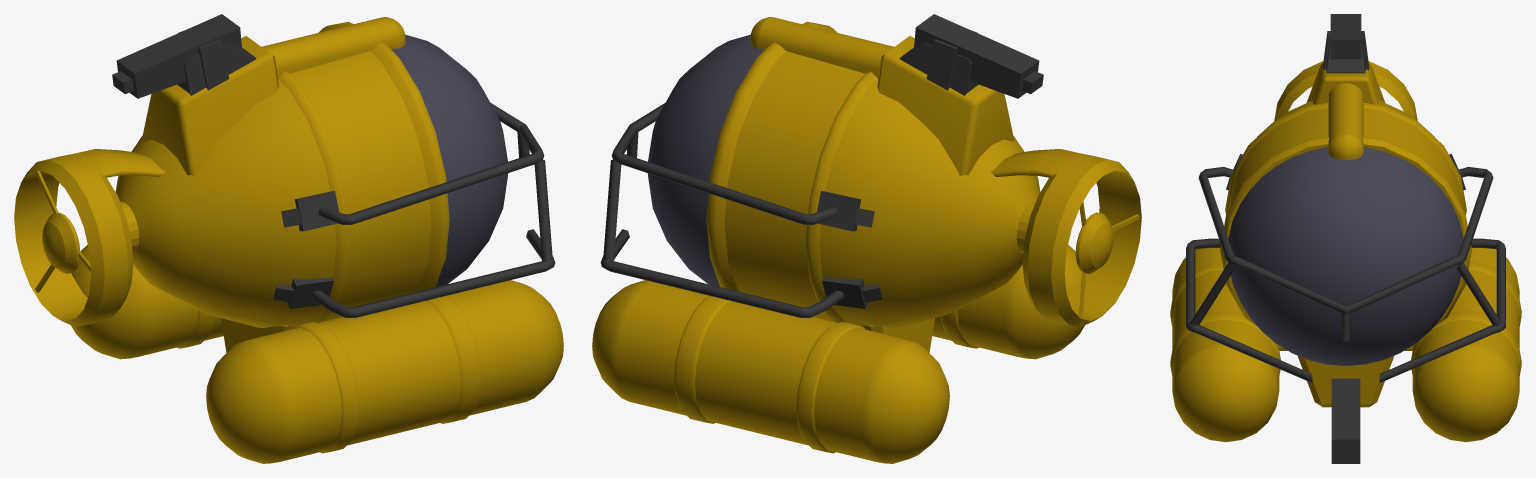
The model's file is SubmarineMain.fbx.
The picture shows the model from 3 angles, left to right: view 1: azimuth 30°, elevation 25°; view 2: azimuth 150°, elevation 25°; view 3: azimuth 270°, elevation 25°; orthographic projection. The views are drawn at different scales.
Visible parts, largest first — view 1: Submarine; view 2: Submarine; view 3: Submarine.
Part boxes in pixels (<box>): Submarine: <box>14,14,563,463</box>; Submarine: <box>592,14,1141,463</box>; Submarine: <box>1170,14,1521,463</box>.
Bounding box in the file's own units: 2.29 × 1.72 × 1.73.
